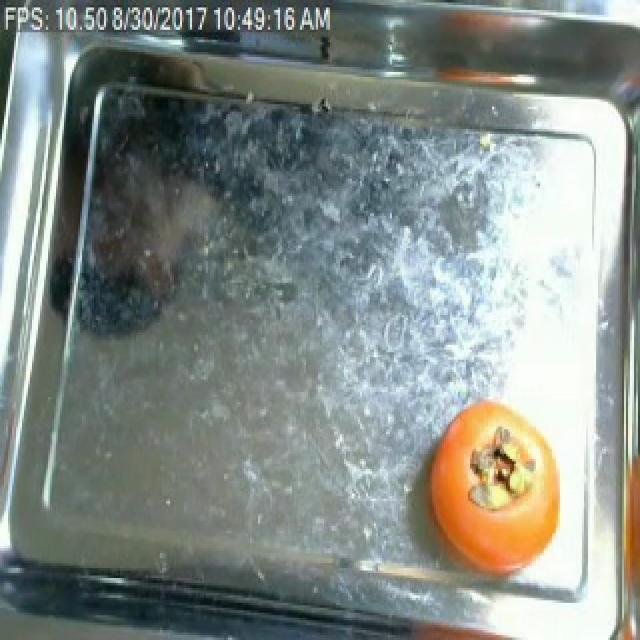Fruit: (420, 392, 568, 585), (386, 610, 568, 640)
